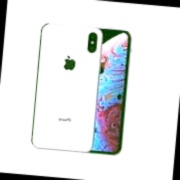iphone: (82, 27, 145, 154)
